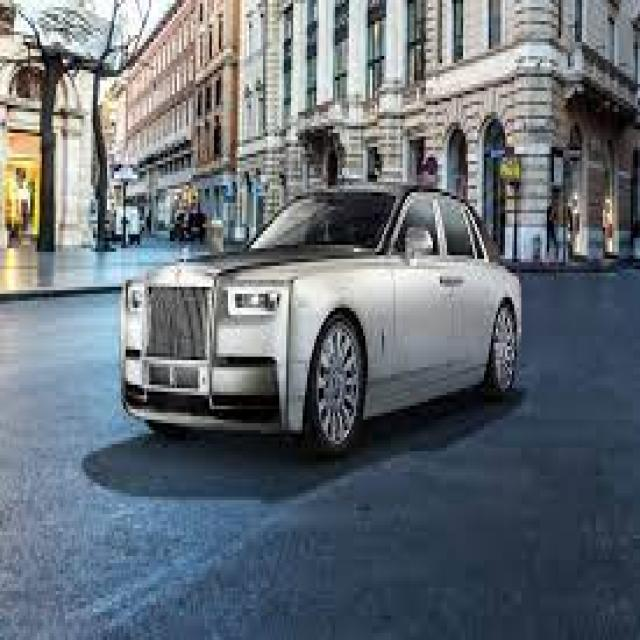car: (108, 165, 528, 456)
